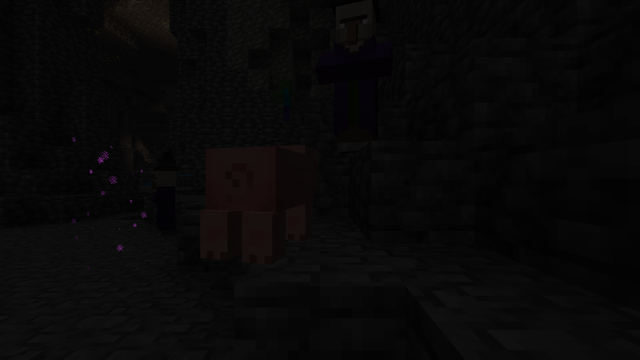cochons: (200, 144, 314, 256)
sorcieres: (333, 1, 383, 154), (148, 168, 180, 237)
zombies: (278, 80, 293, 127)
